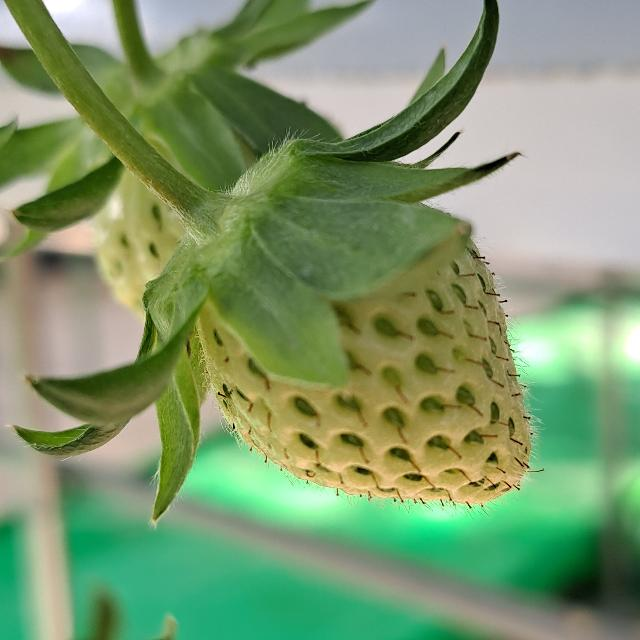Health_25: (195, 238, 530, 504)
